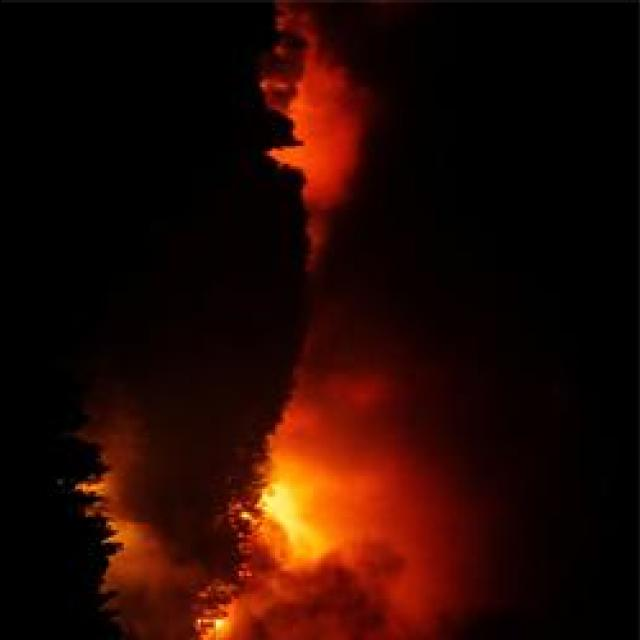fire: (254, 472, 316, 532)
smoke: (226, 538, 464, 640), (298, 46, 371, 205)
